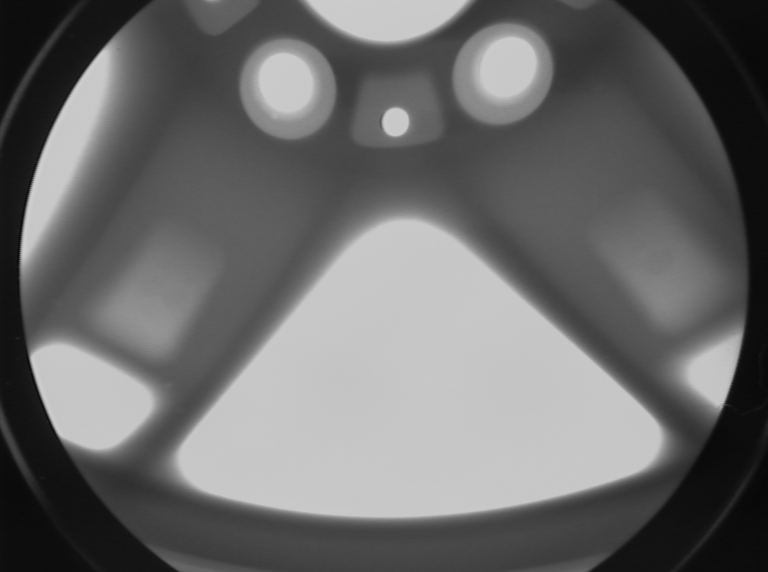defect: (46, 294, 62, 312)
